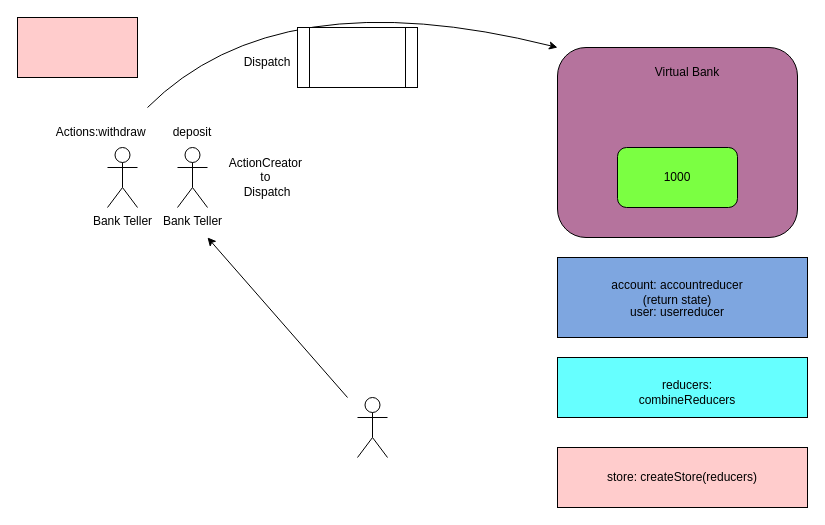
This 825x525 diagram has some shape labels left out. The centre of each missing label's shape, as x and y in pixels:
"ActionType: Deposit Payload: Amount" goes at point (357, 57).
"bindActionCreators: deposit , withdraw" goes at point (77, 47).
"User" goes at point (372, 427).
